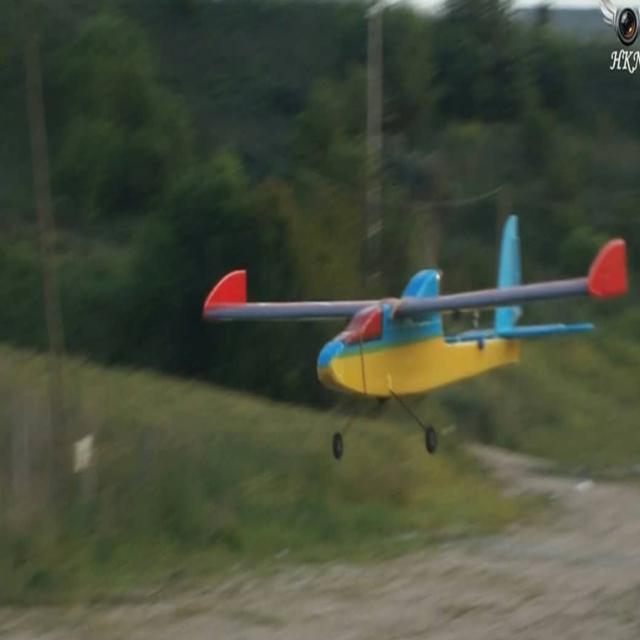iha: (202, 206, 630, 467)
